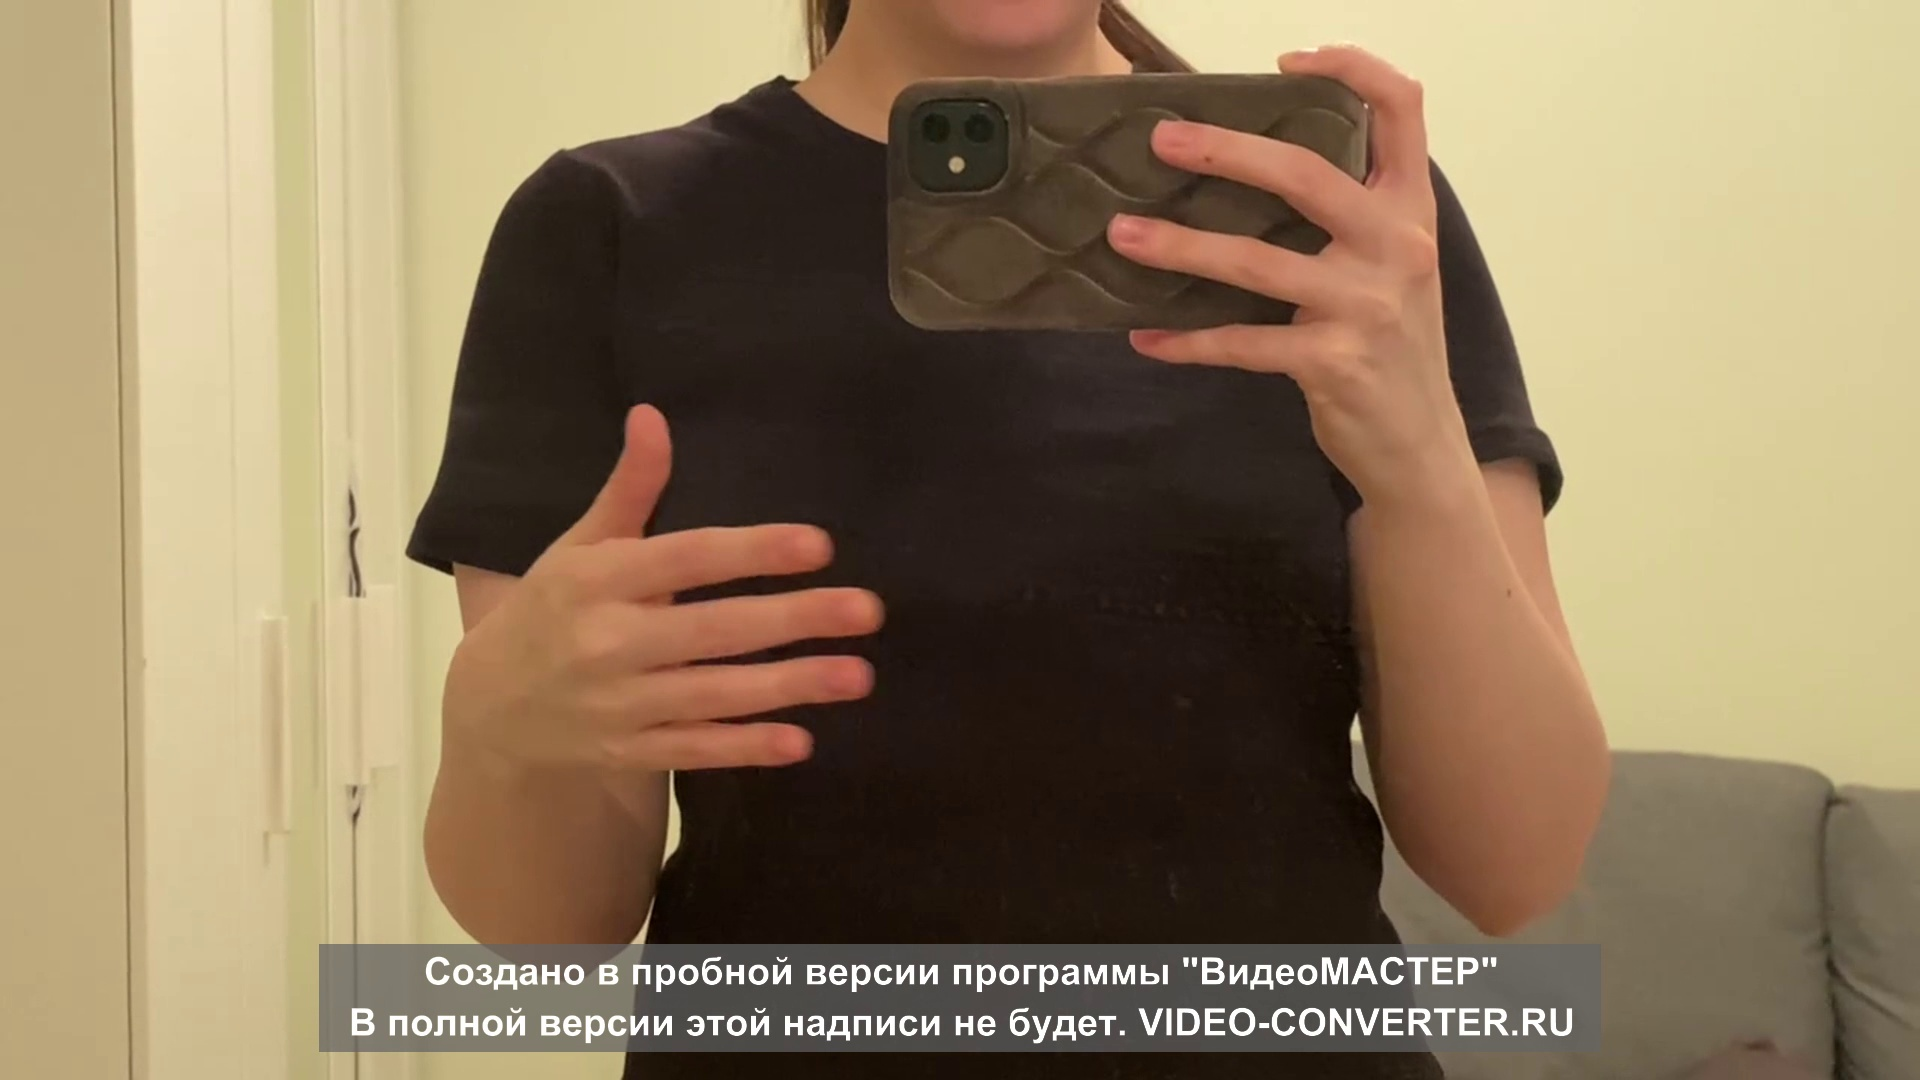Кисть: (440, 401, 881, 769)
